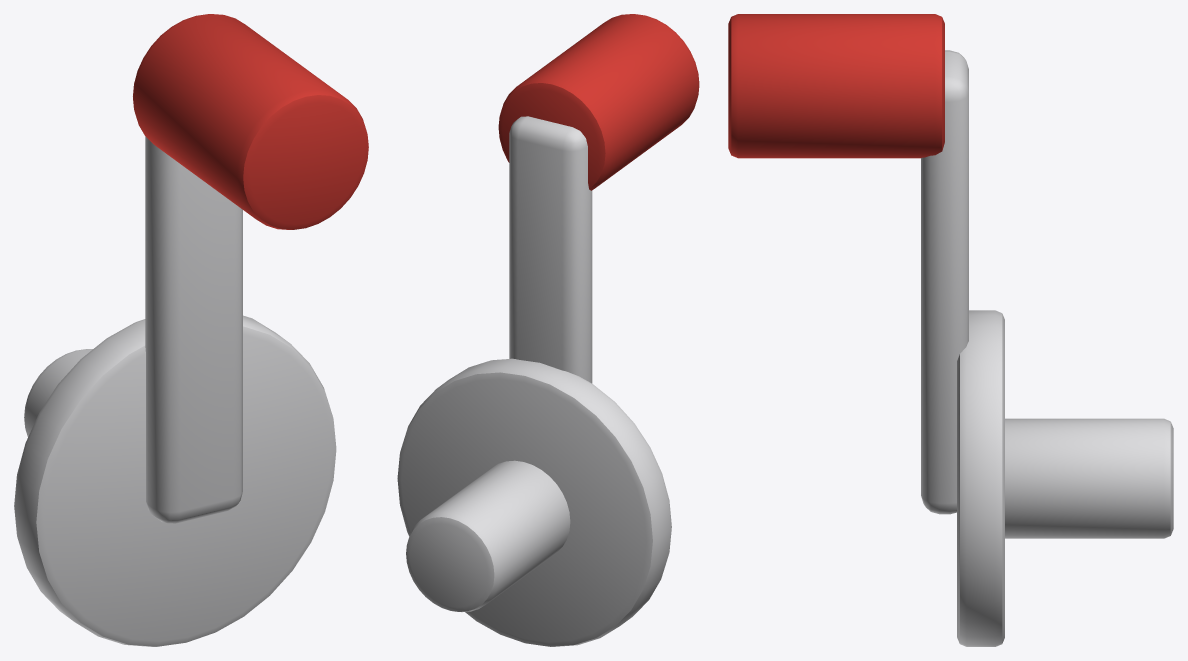
File: gumball_crank.glb
The picture shows the model from 3 angles, left to right: view 1: azimuth 30°, elevation 25°; view 2: azimuth 150°, elevation 25°; view 3: azimuth 270°, elevation 25°; orthographic projection. The views are drawn at different scales.
Parts seen in each view (by area): view 1: disc, grip, arm, spindle; view 2: disc, arm, grip, spindle; view 3: grip, spindle, arm, disc.
Boxes of the visible parts, <box> form: disc: <box>14,315,336,646</box>; grip: <box>133,14,368,229</box>; arm: <box>145,136,242,523</box>; spindle: <box>24,349,92,436</box>; disc: <box>397,358,671,646</box>; arm: <box>509,116,592,383</box>; grip: <box>498,14,699,190</box>; spindle: <box>406,460,570,612</box>; grip: <box>728,14,944,158</box>; spindle: <box>1005,418,1173,538</box>; arm: <box>921,50,968,514</box>; disc: <box>957,310,1004,646</box>.
Size of the model in its own units: 0.14 by 0.28 by 0.185.
